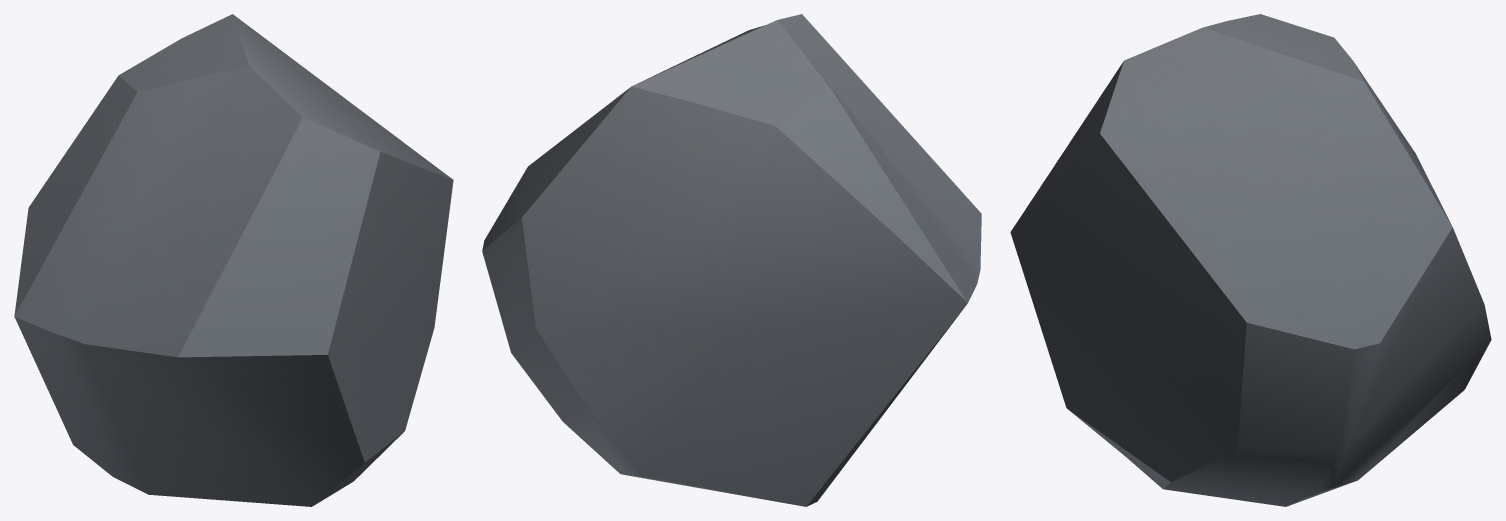
File: rocaRedonda6.fbx
3 renders of one model, left to right at view 1: azimuth 30°, elevation 25°; view 2: azimuth 150°, elevation 25°; view 3: azimuth 270°, elevation 25°, orthographic.
Visible parts, largest first — view 1: rocaRedonda6; view 2: rocaRedonda6; view 3: rocaRedonda6.
Boxes of the visible parts, x1,y1,x2,y2 form: rocaRedonda6: (14,14,453,506); rocaRedonda6: (482,14,981,506); rocaRedonda6: (1010,14,1491,506).
Size of the model in its own units: 166 by 156 by 157.
